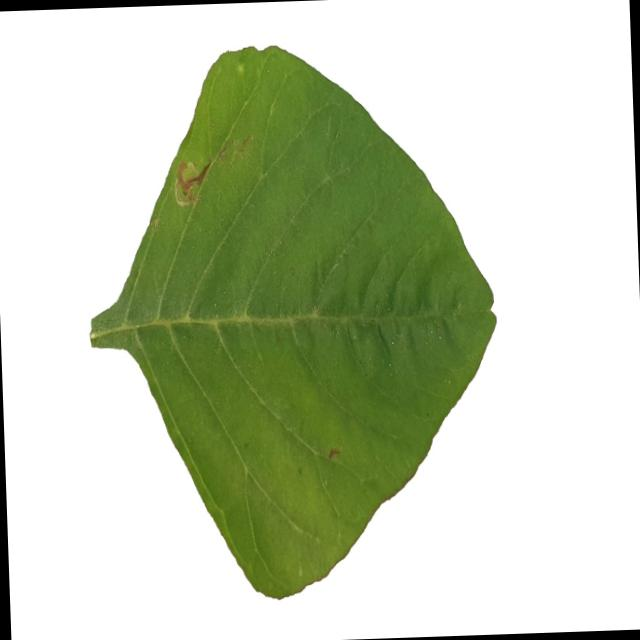Medicinal-Arive Dantu: (79, 37, 506, 606)
